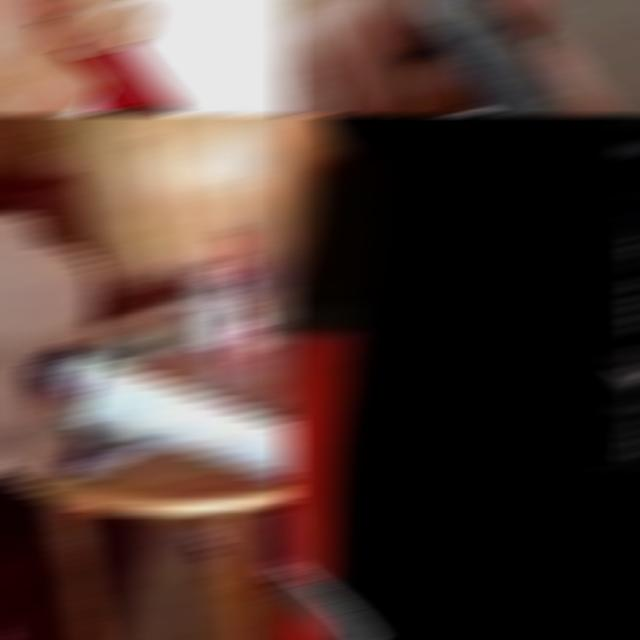Knife: (406, 1, 583, 114), (282, 552, 386, 639), (61, 46, 182, 114)
Knife_Handle: (0, 211, 294, 491), (282, 472, 385, 639)
